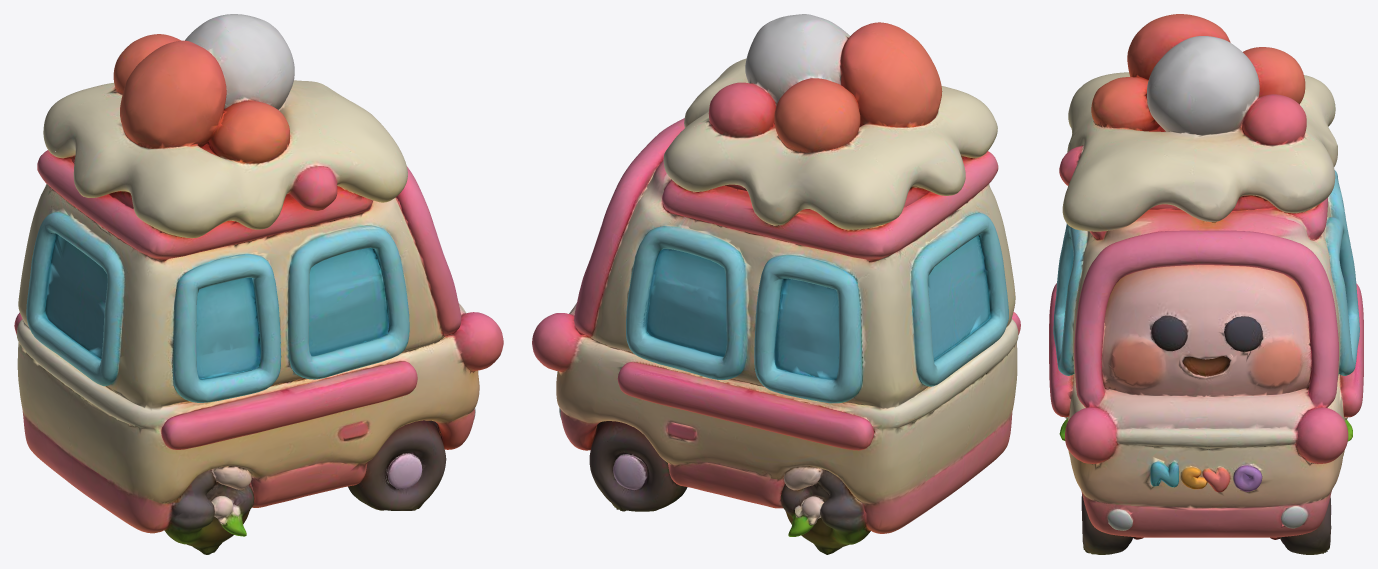
Rendered from env_nest_truck_icecream_01.glb.
3 views of the same model, side by side, from view 1: azimuth 30°, elevation 25°; view 2: azimuth 150°, elevation 25°; view 3: azimuth 270°, elevation 25° (orthographic). The views are drawn at different scales.
Visible parts, largest first — view 1: tripo_node_3a1b8101-78c5-410c-9cc7-c2b007fc40c6; view 2: tripo_node_3a1b8101-78c5-410c-9cc7-c2b007fc40c6; view 3: tripo_node_3a1b8101-78c5-410c-9cc7-c2b007fc40c6.
Part boxes in pixels (x1,y1,x2,y2): tripo_node_3a1b8101-78c5-410c-9cc7-c2b007fc40c6: (14,14,503,554); tripo_node_3a1b8101-78c5-410c-9cc7-c2b007fc40c6: (532,14,1020,554); tripo_node_3a1b8101-78c5-410c-9cc7-c2b007fc40c6: (1049,14,1363,554).
Size of the model in its own units: 2.15 by 2.6 by 1.63.
Materials: 1 (1 with a texture image).
